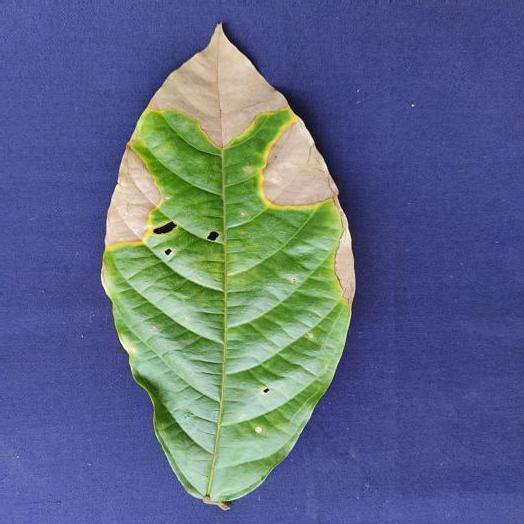Potassium: (102, 27, 353, 508)
